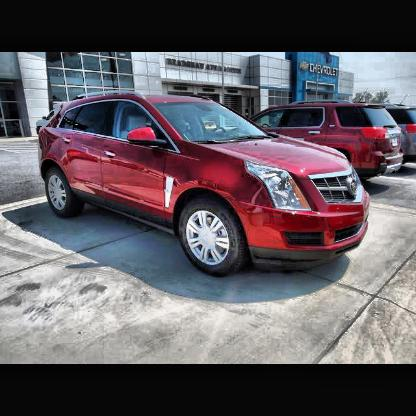Cadillac SRX SUV 2012: (41, 96, 371, 276)
